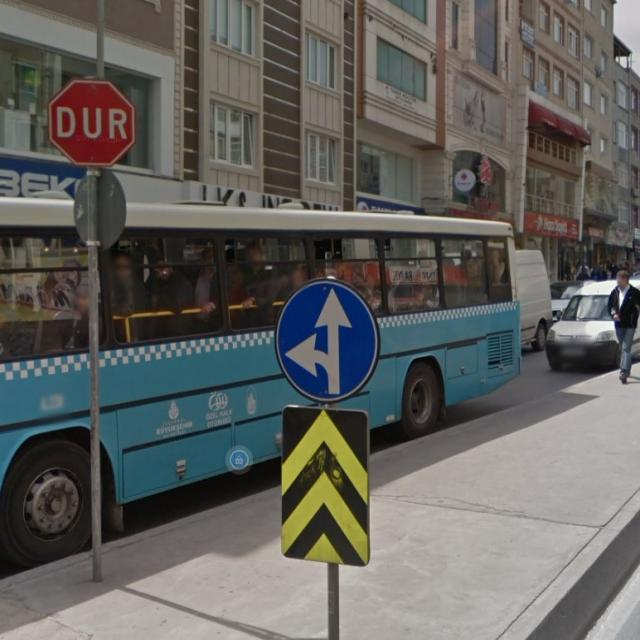dur: (47, 80, 136, 166)
ilerisol: (277, 278, 379, 402)
